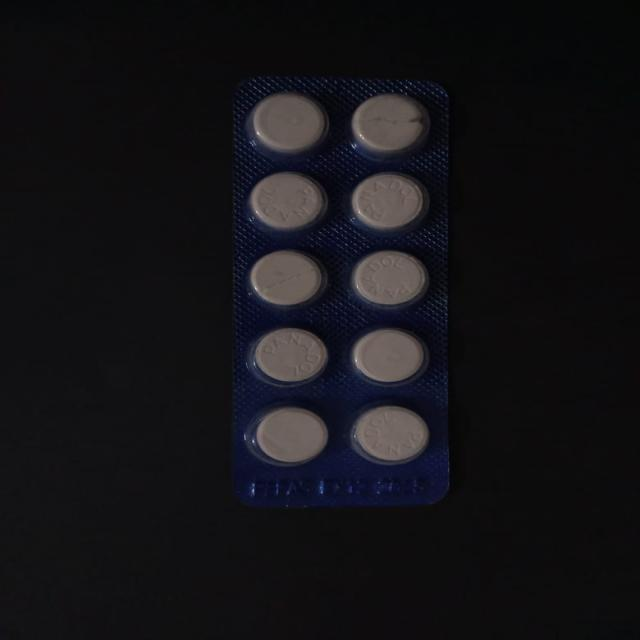defect: (348, 90, 434, 158), (247, 246, 330, 311)
